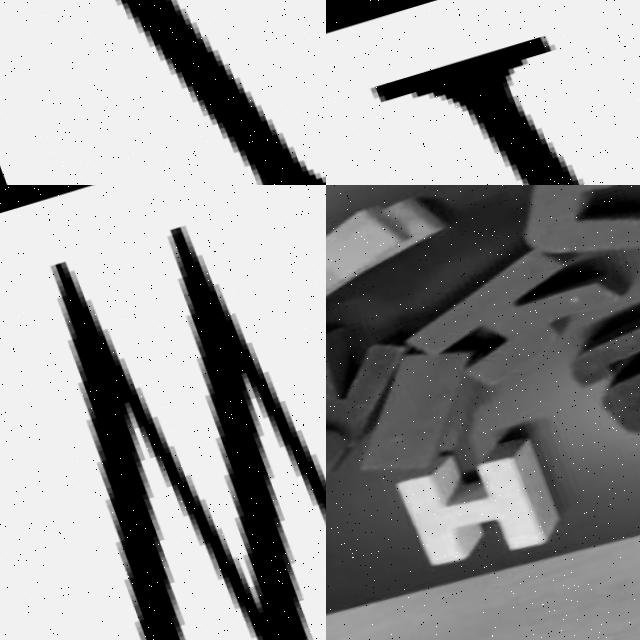H: (363, 425, 594, 589)
I: (371, 35, 577, 185)
S: (556, 279, 640, 456)
U: (0, 0, 326, 185)
W: (0, 185, 326, 640)
